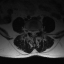CCS_normal: (32, 28, 34, 37)
LFS_normal: (36, 27, 39, 34)
LLS_normal: (34, 27, 36, 36)
RFS_normal: (27, 27, 30, 34)
RLS_normal: (30, 27, 32, 36)
